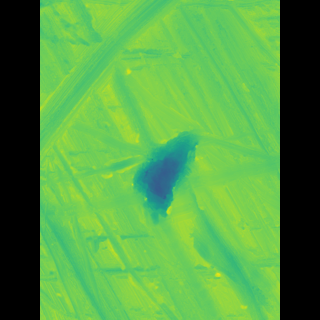Loch: (68, 2, 177, 172), (79, 140, 136, 317), (136, 119, 194, 233)
